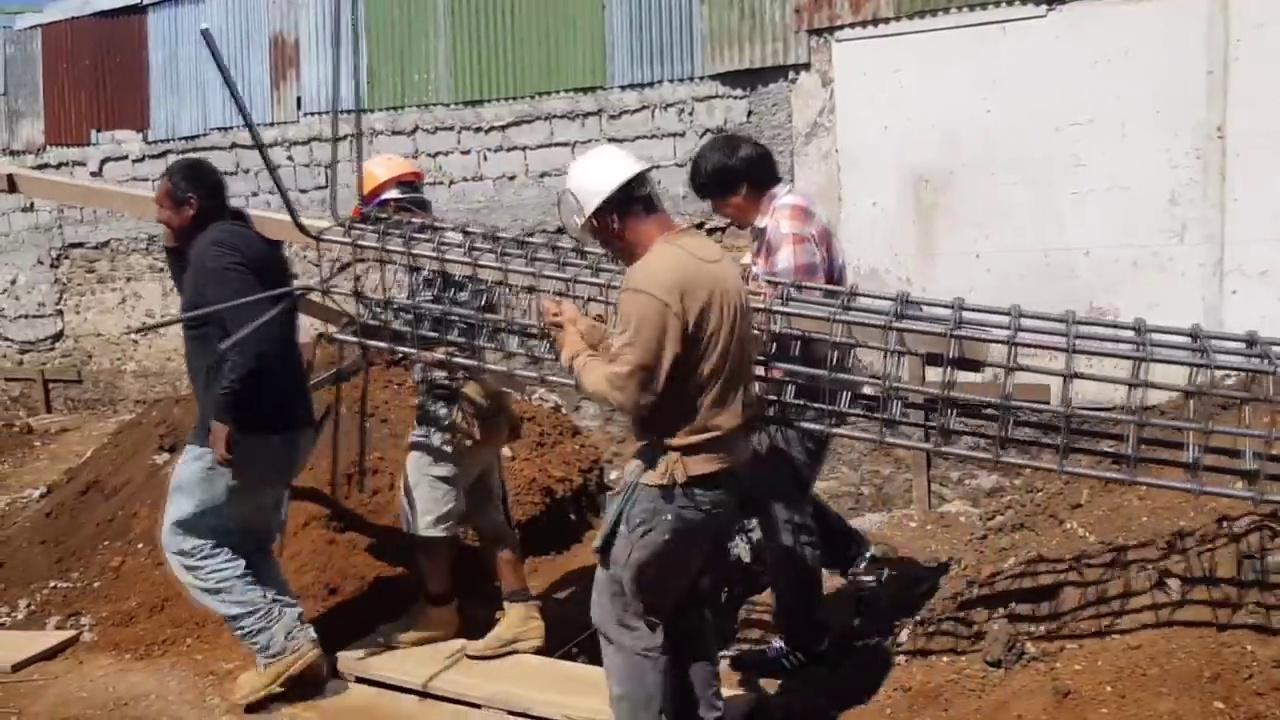helmet: (559, 147, 660, 243), (343, 154, 422, 214)
helmet-off: (692, 135, 779, 236), (154, 160, 227, 242)
helmet-on: (558, 142, 688, 273), (345, 143, 444, 249)
person: (543, 130, 777, 719), (343, 137, 541, 659), (695, 137, 880, 669), (148, 154, 334, 672)
